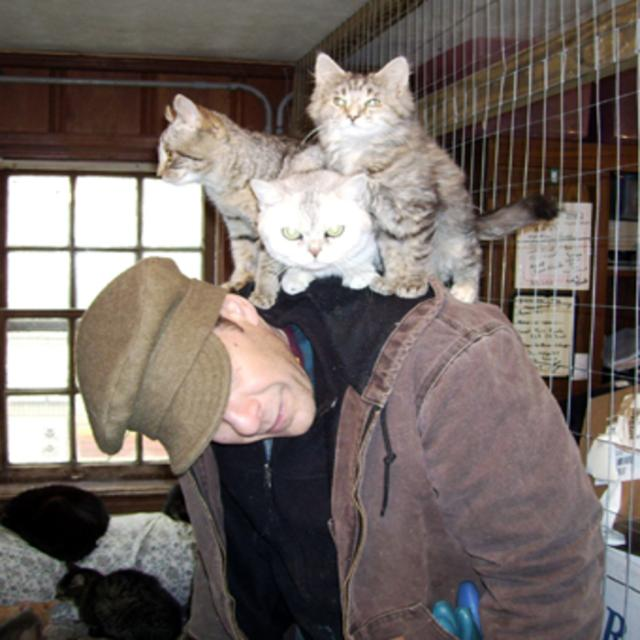Cat: (301, 46, 566, 305), (144, 88, 312, 313), (242, 161, 395, 293), (50, 556, 190, 638)
